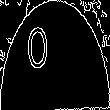O_S: (45, 29, 65, 81)
